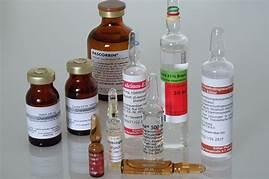Syringe: (197, 24, 237, 164), (156, 3, 194, 123), (120, 27, 151, 140), (23, 65, 64, 150), (63, 59, 102, 136), (140, 68, 166, 164), (119, 156, 207, 178), (103, 86, 126, 169), (86, 113, 105, 179)
